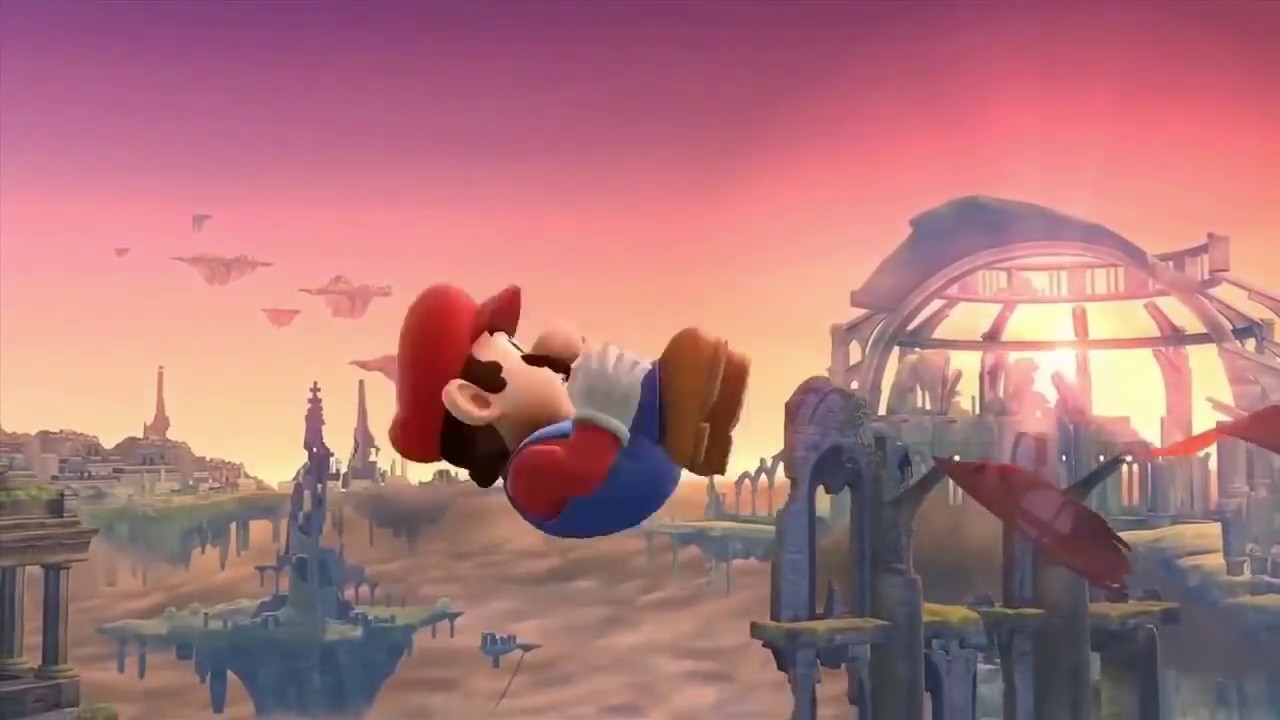Mario: (387, 283, 746, 539)
